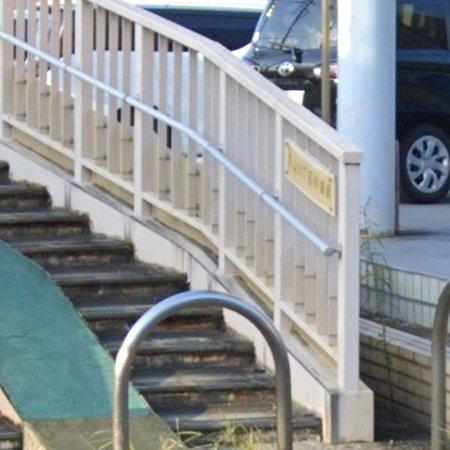stairs: (0, 162, 189, 356), (132, 308, 276, 450)
